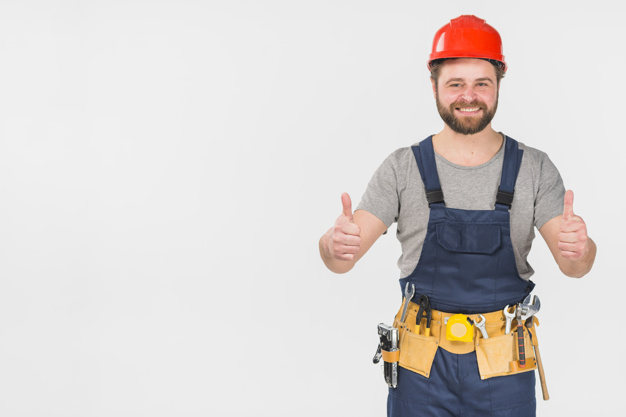thumbsup: (557, 189, 587, 260), (332, 192, 362, 261)
